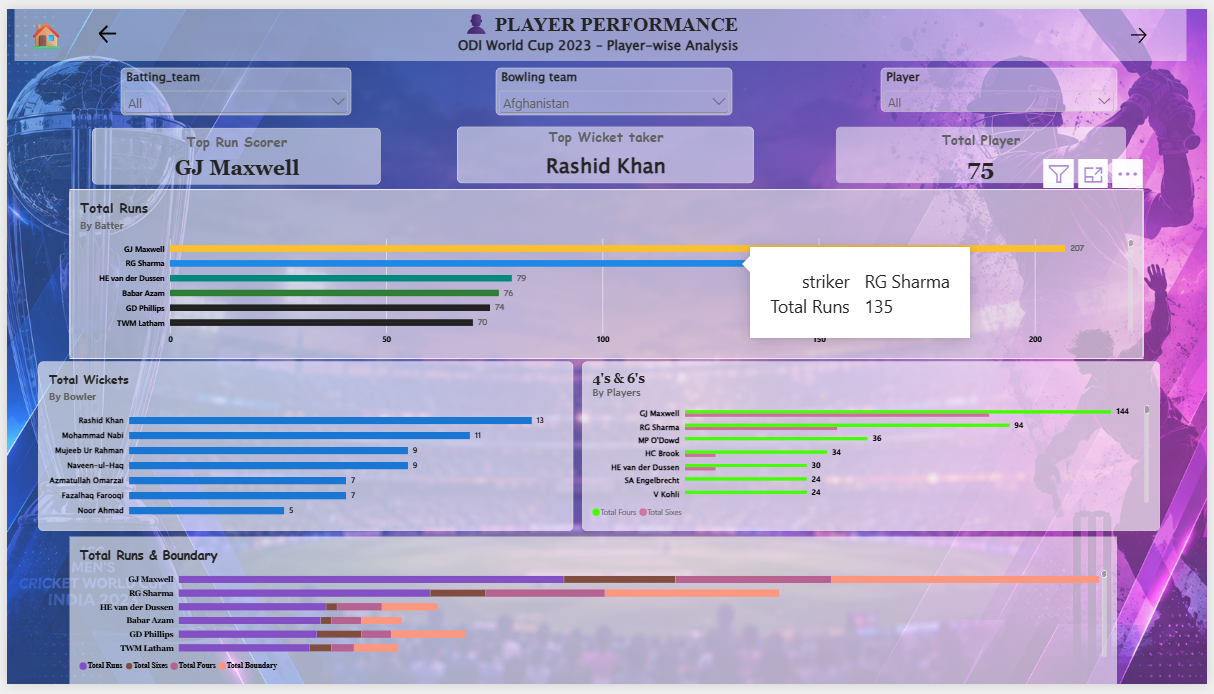

Layout of this report page (visuals, bound fields, positions):
{"tool":"powerbi","page":{"name":"PLAYER PERFORMANCE ","canvas":[1920,1080],"ordinal":2},"visuals":[{"type":"textbox","box":[11,0,1874.8,83.2],"z":0},{"type":"actionButton","box":[111.9,14.7,99.5,52.5],"z":1000},{"type":"actionButton","box":[1759,16.5,100.9,53.2],"z":2000},{"type":"slicer","fields":{"Values":["ODI 2023.batting_team"]},"box":[182.8,94.1,369.2,76],"z":3000},{"type":"slicer","fields":{"Values":["ODI 2023.striker"]},"box":[1397.1,94.1,378.2,70.6],"z":4000},{"type":"cardVisual","fields":{"Data":["ODI 2023.Top Run Scorer"]},"box":[135.7,190,462.2,91.7],"z":5000},{"type":"cardVisual","fields":{"Data":["ODI 2023.Top Wicket taker"]},"box":[720.2,188.2,475.1,91.7],"z":6000},{"type":"cardVisual","fields":{"Data":["ODI 2023.Total Player"]},"box":[1326.5,188.2,465.9,91.7],"z":7000},{"type":"clusteredBarChart","title":"Total Runs ","fields":{"Category":["ODI 2023.striker"],"Y":["ODI 2023.Total Runs"]},"box":[99.5,287.7,1719.2,271.4],"z":8000},{"type":"clusteredBarChart","title":"Total Wickets ","fields":{"Category":["ODI 2023.bowler"],"Y":["ODI 2023.Total Wickets Team"]},"box":[50.7,564.6,856,271.4],"z":9000},{"type":"clusteredBarChart","title":"4''s & 6''s","fields":{"Category":["ODI 2023.striker"],"Y":["ODI 2023.Total Fours","ODI 2023.Total Sixes"]},"box":[919.3,564.6,924.7,271.4],"z":10000},{"type":"barChart","title":"Total Runs & Boundary","fields":{"Category":["ODI 2023.striker"],"Y":["ODI 2023.Total Runs","ODI 2023.Total Sixes","ODI 2023.Total Fours","ODI 2023.Total Boundary"]},"box":[99.5,843.3,1675.7,237.1],"z":11000},{"type":"actionButton","box":[11,3.7,100.9,75.2],"z":12000},{"type":"slicer","fields":{"Values":["ODI 2023.bowling_team"]},"box":[781.8,94.1,378.2,76],"z":13000}]}

Visuals, with their boxes in screenshot pixels (x1, y1, x2, y2), scaled from the page's 1920x1080 canvas onto the 1214x694 screenshot:
textbox: [left=7, top=0, right=1192, bottom=53]
actionButton: [left=71, top=9, right=134, bottom=43]
actionButton: [left=1112, top=11, right=1176, bottom=45]
slicer - ODI 2023.batting_team: [left=116, top=60, right=349, bottom=109]
slicer - ODI 2023.striker: [left=883, top=60, right=1123, bottom=106]
cardVisual - ODI 2023.Top Run Scorer: [left=86, top=122, right=378, bottom=181]
cardVisual - ODI 2023.Top Wicket taker: [left=455, top=121, right=756, bottom=180]
cardVisual - ODI 2023.Total Player: [left=839, top=121, right=1133, bottom=180]
"Total Runs " clusteredBarChart: [left=63, top=185, right=1150, bottom=359]
"Total Wickets " clusteredBarChart: [left=32, top=363, right=573, bottom=537]
"4''s & 6''s" clusteredBarChart: [left=581, top=363, right=1166, bottom=537]
"Total Runs & Boundary" barChart: [left=63, top=542, right=1122, bottom=693]
actionButton: [left=7, top=2, right=71, bottom=51]
slicer - ODI 2023.bowling_team: [left=494, top=60, right=733, bottom=109]
